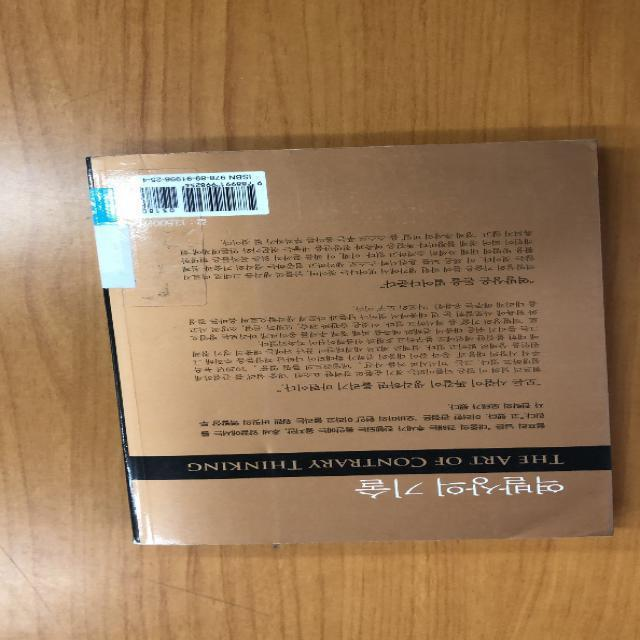Wornout: (82, 144, 250, 174), (273, 139, 401, 170), (513, 134, 603, 158), (129, 536, 217, 550), (241, 536, 318, 550)
